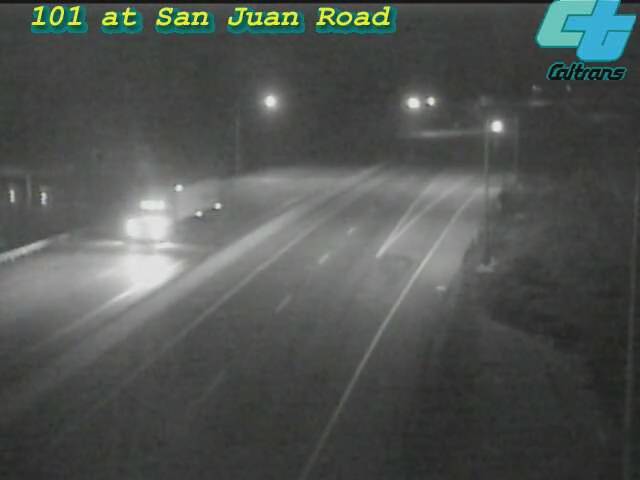vehicle: (138, 168, 218, 248), (471, 102, 521, 152)
